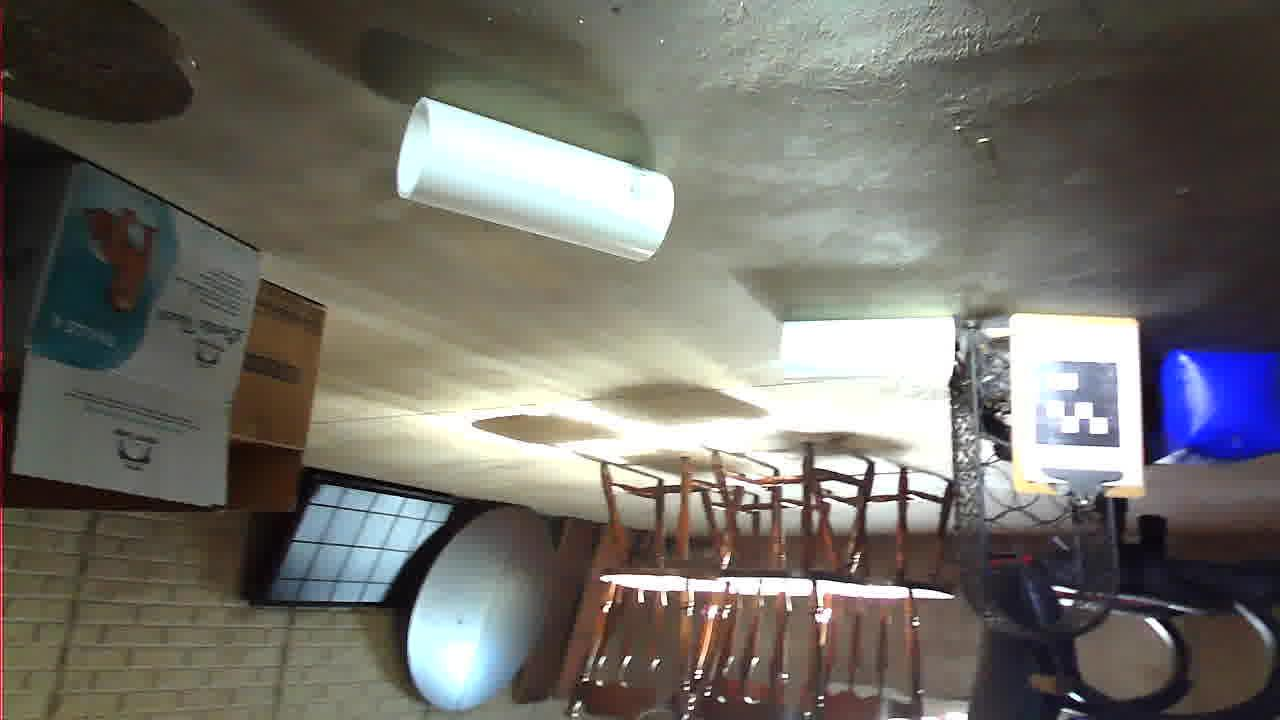coral: (606, 456, 883, 625), (324, 339, 498, 402)
